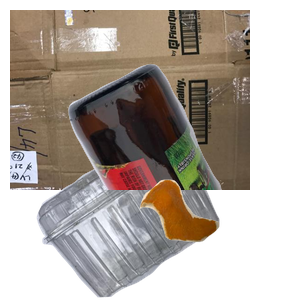cardboard: (10, 10, 250, 190)
glass: (66, 61, 300, 241)
plastic: (34, 130, 246, 300)
trash: (137, 177, 300, 300)
